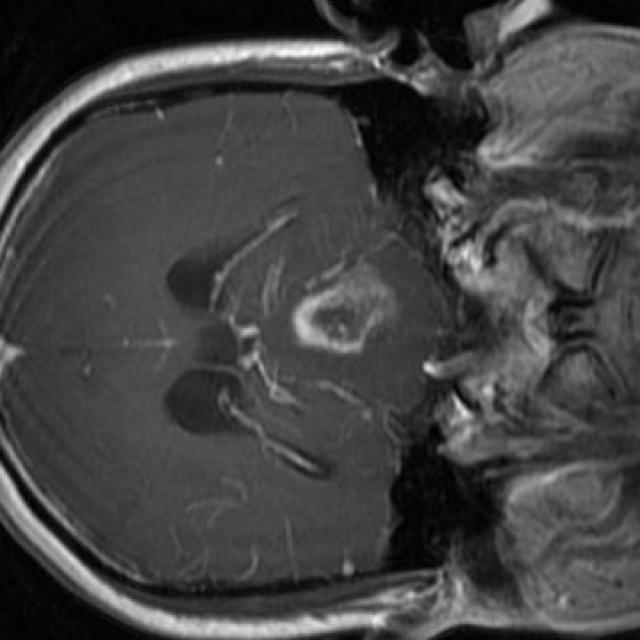glioma: (292, 257, 394, 353)
